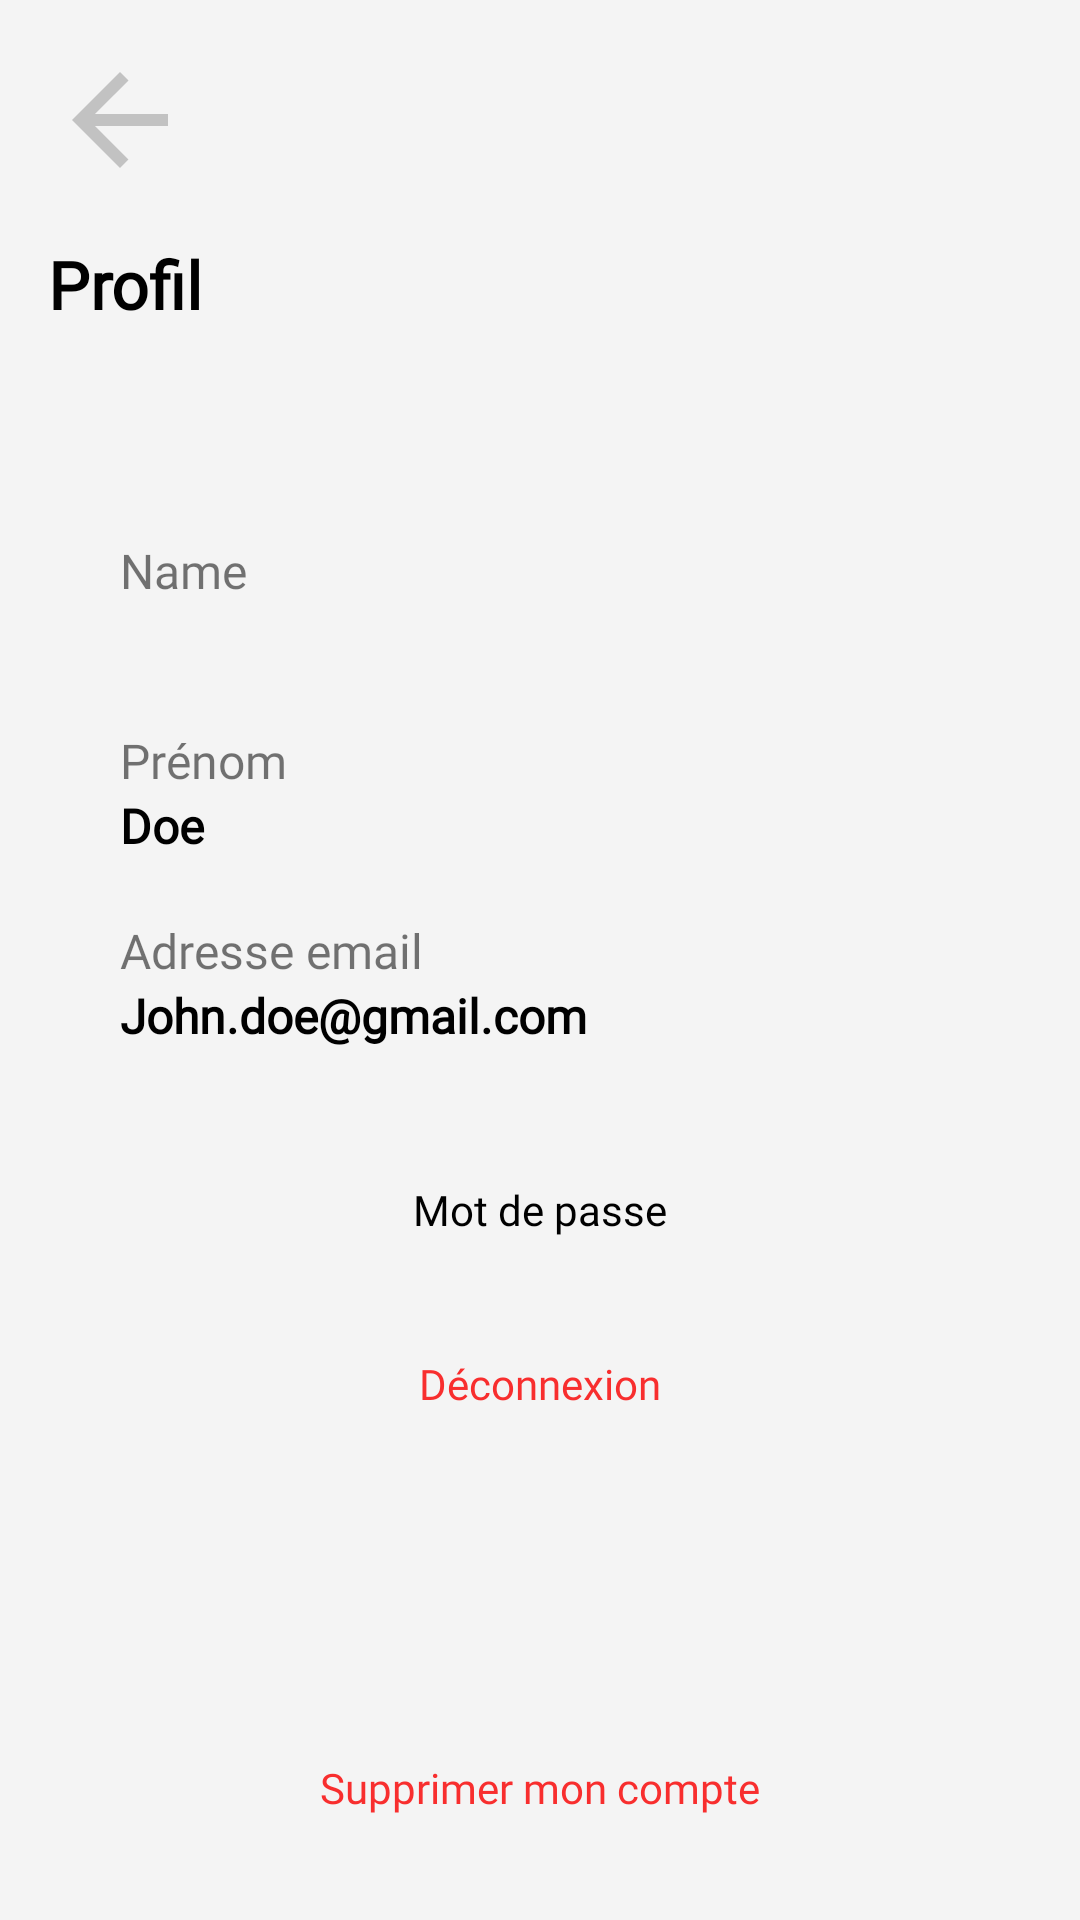

Point at icon controls on the screen. Image size 1080 x 1920, points as point (x, y).
arrow back: point (120, 120)
